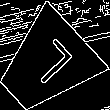L_SW: (17, 37, 74, 94)
